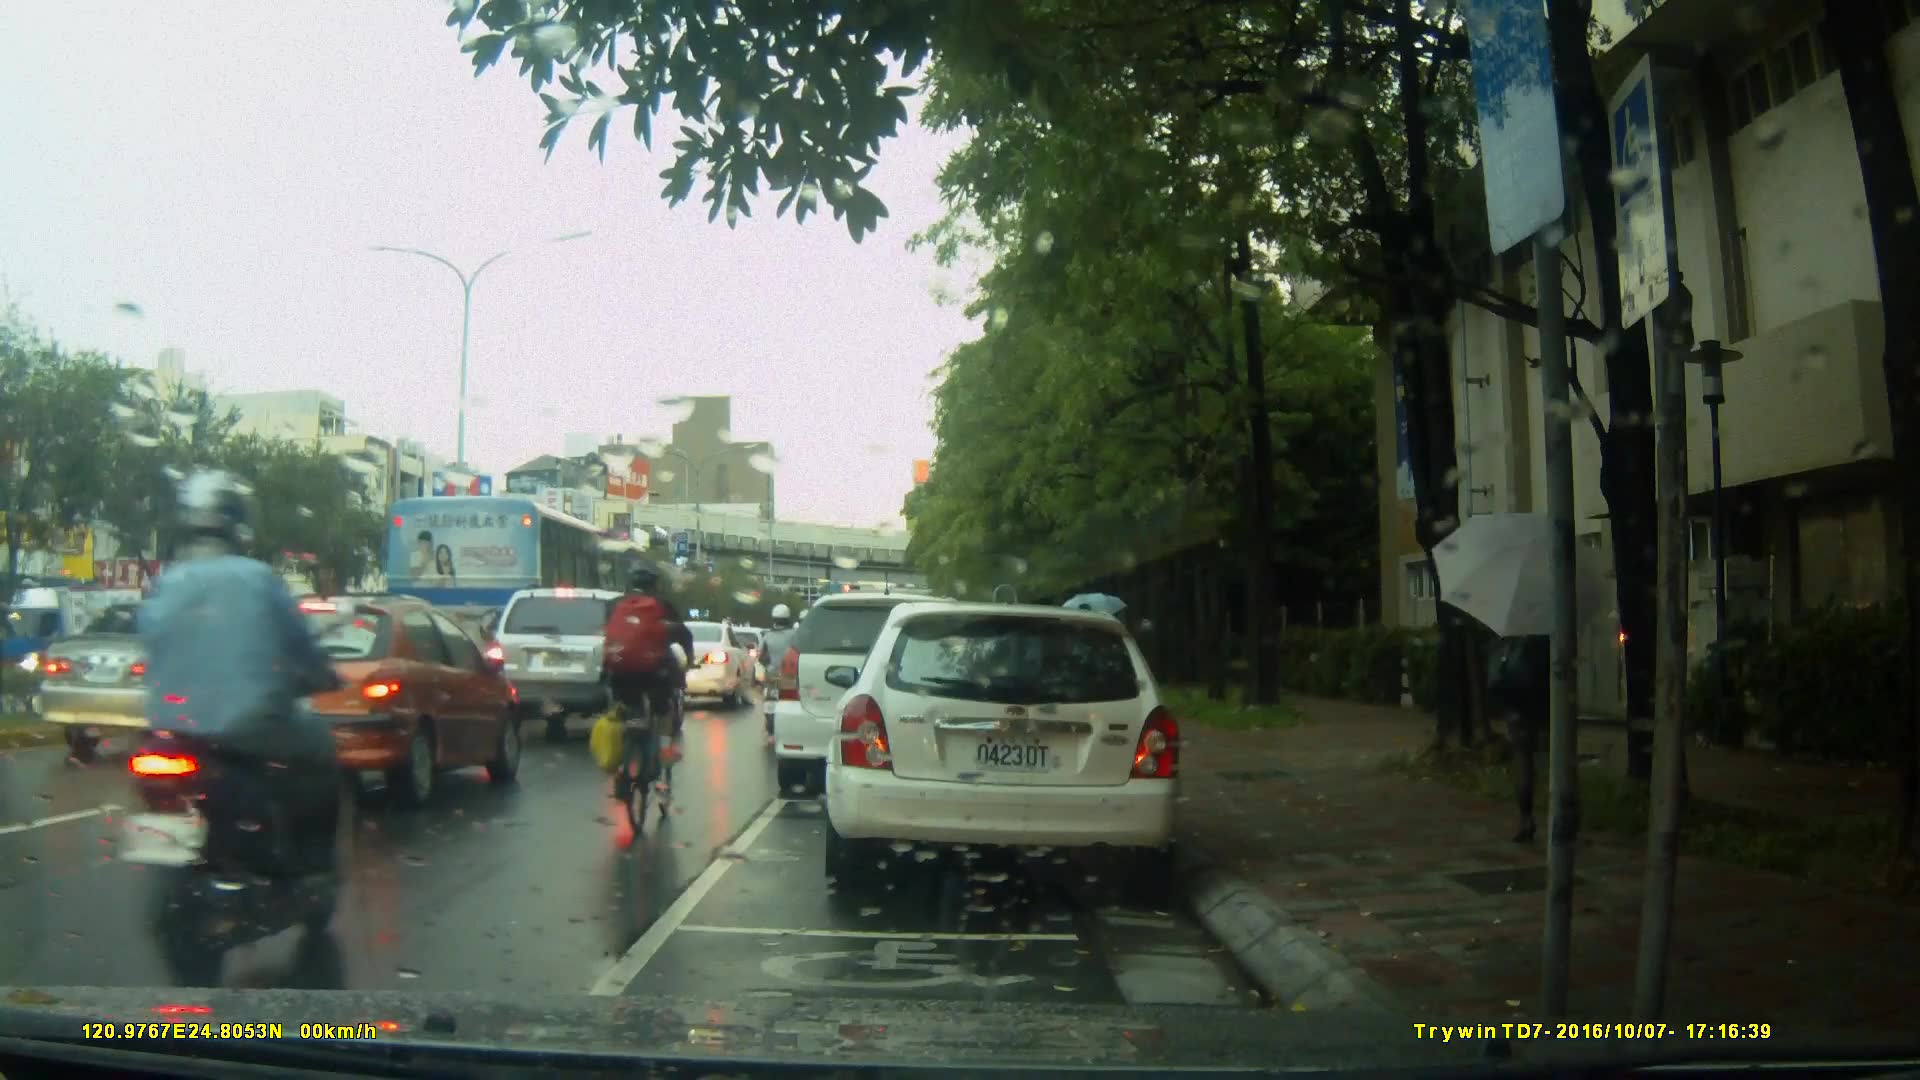pedestrian: (1485, 531, 1614, 858)
rider: (120, 473, 350, 977), (595, 561, 696, 831), (760, 598, 810, 741)
vehicle: (835, 594, 1194, 898), (182, 593, 522, 817), (368, 488, 663, 716), (776, 590, 1026, 784), (34, 595, 312, 764), (479, 584, 687, 739), (1, 586, 157, 697)
